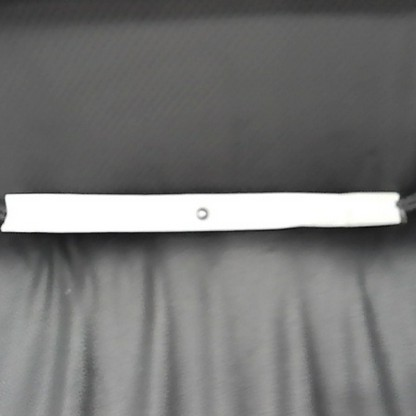ironball: (193, 204, 208, 220)
